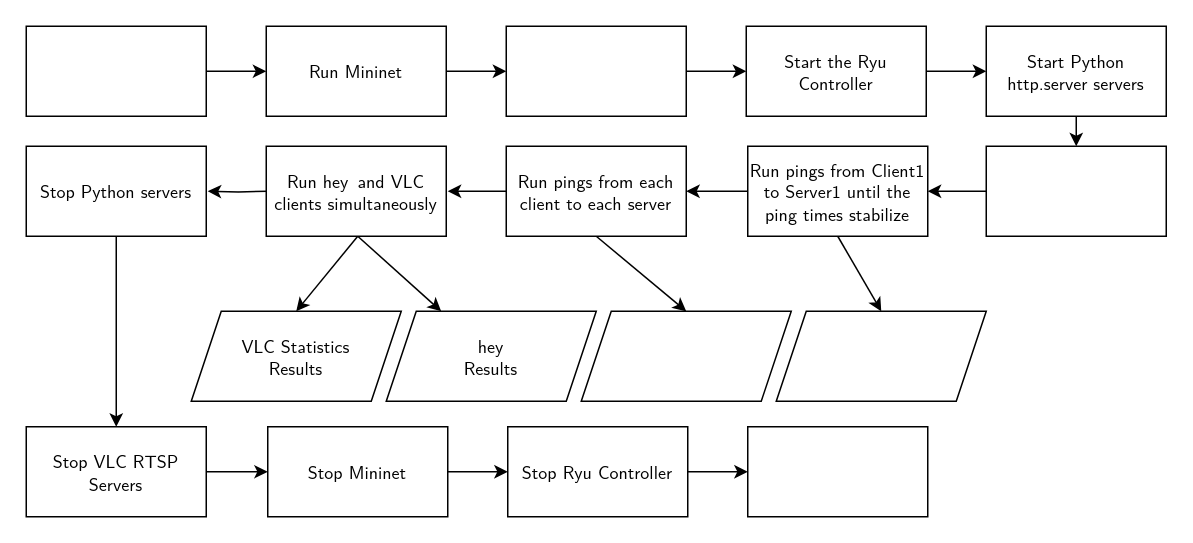
Image size: 1193x543. Some labels were removed from this diagram. The centre of each missing label's shape, as x and y in pixels:
"Convergence Time Results" belongs at pixel 880 355.
"Delete QoS related settings" belongs at pixel 837 471.
"Round-trip time Results" belongs at pixel 685 355.
"Run configuration scripts" belongs at pixel 115 70.
"Set QoS settings through ovs-ofctl" belongs at pixel 595 70.
"Start VLC RTSP Servers" belongs at pixel 1075 190.
